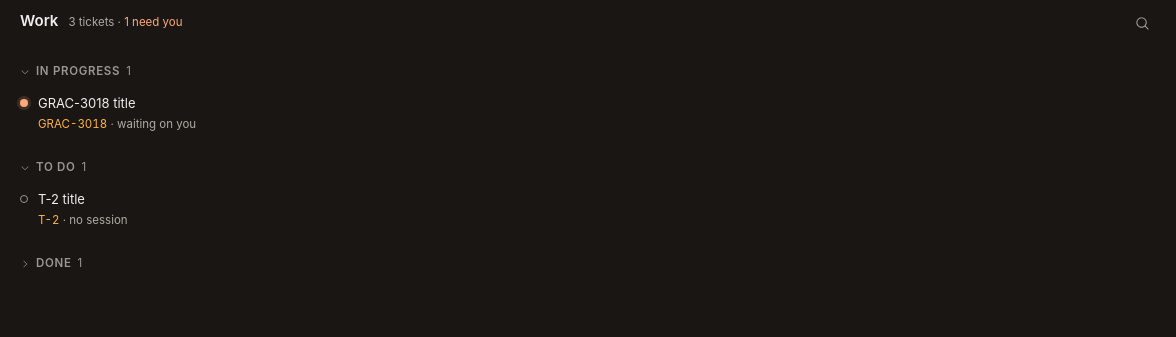
Scenario: WorkPanel rows (HIVE-203) › groups in order, Done folded until opened, and folds a group on click
The image size is (1176, 337).
Expected: the text "GRAC-3018 title" is shown, [38,95,136,111]
Expected: the text "T-3 title" is not shown
Click the button "Done 1".
click(54, 263)  # box [12,247,1164,276]
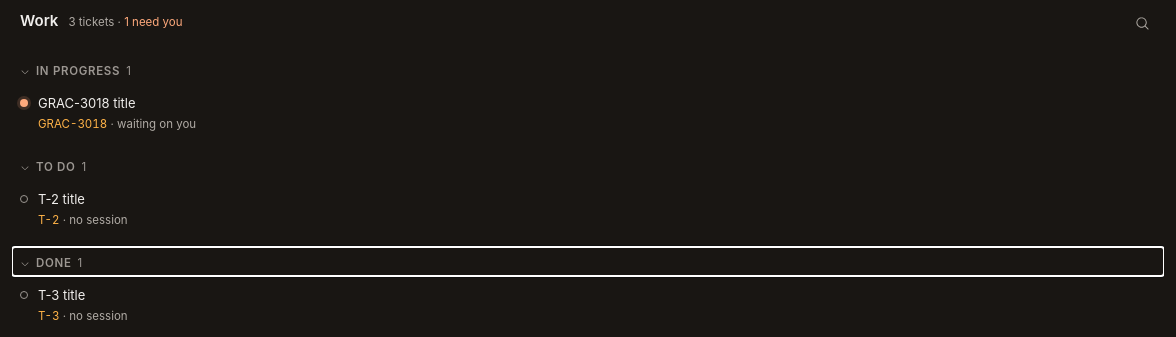
Expected: the text "T-3 title" is shown, [38,287,85,303]
Click the button "In progress 1".
click(78, 71)  # box [12,55,1164,84]
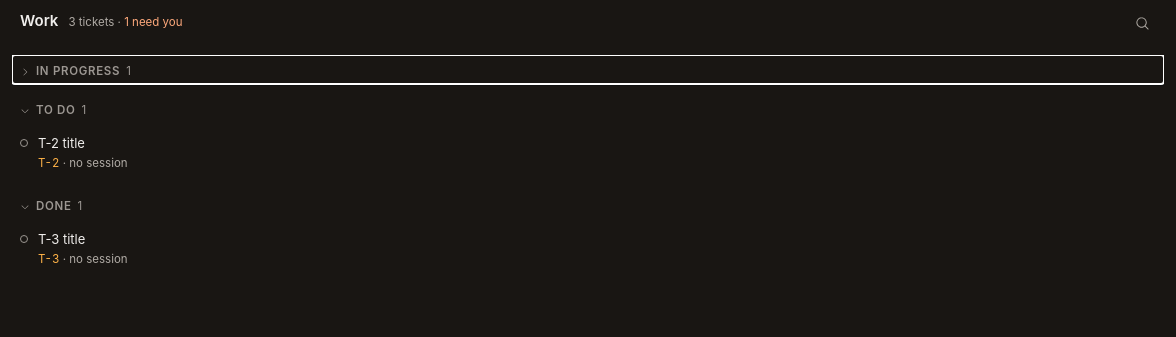
Expected: the button "GRAC-3018 title" is gone
